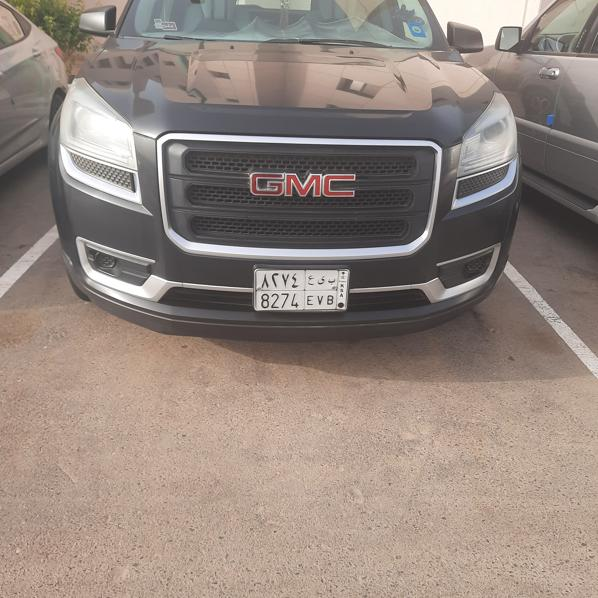numberplate: (255, 269, 347, 311)
